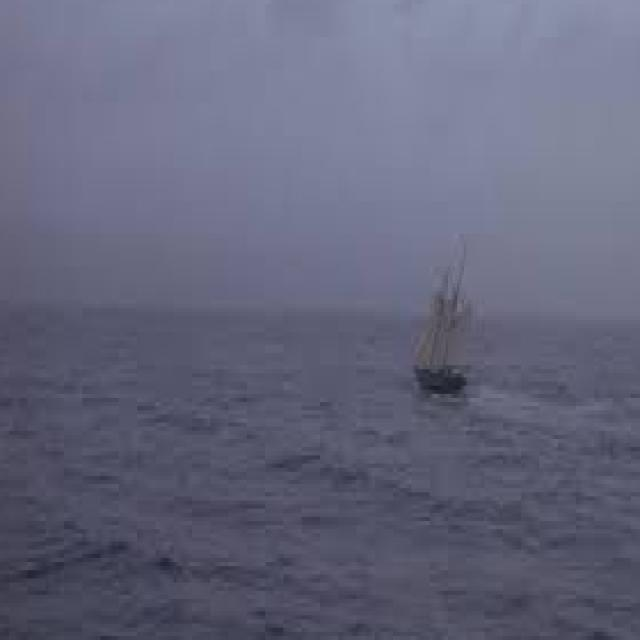fishing boat: (407, 256, 479, 400)
